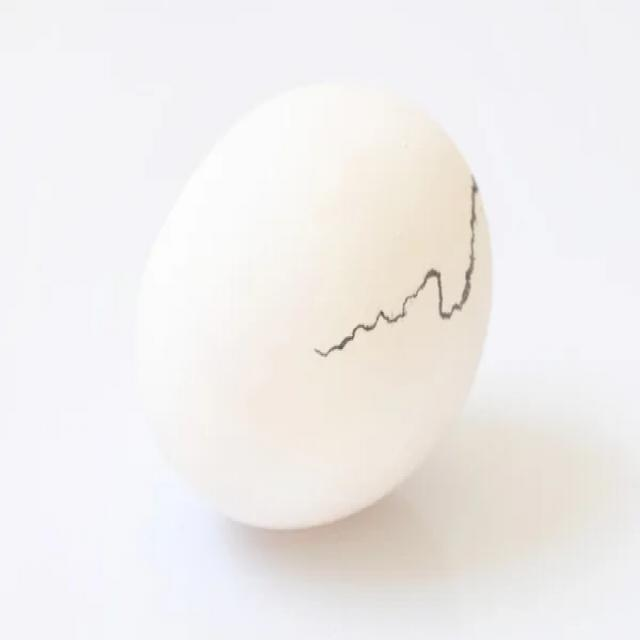biodegradable: (124, 88, 497, 528)
